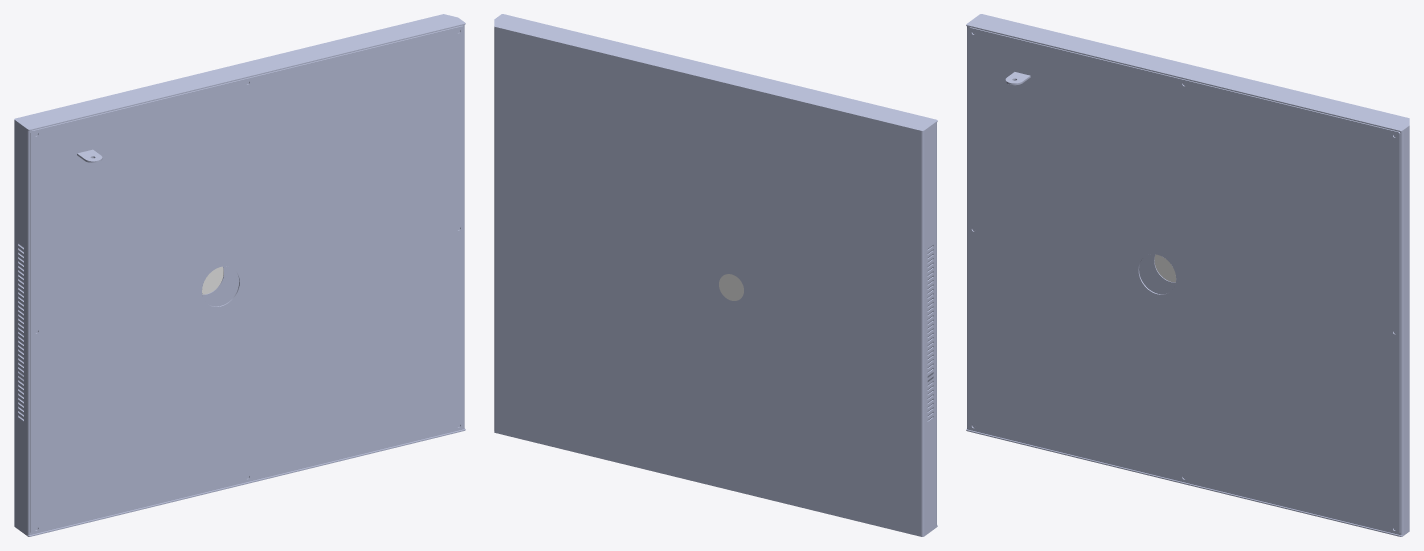
The model's file is laboratory centrifuge lid.glb.
3 views of the same model, side by side, from view 1: azimuth 30°, elevation 25°; view 2: azimuth 150°, elevation 25°; view 3: azimuth 330°, elevation 25° (orthographic).
Parts seen in each view (by area): view 1: laboratory centrifuge lid.IGS (×10); view 2: laboratory centrifuge lid.IGS (×8); view 3: laboratory centrifuge lid.IGS (×10).
Part boxes in pixels (x1,y1,x2,y2): laboratory centrifuge lid.IGS (×10): (14, 14, 465, 536); laboratory centrifuge lid.IGS (×8): (494, 14, 937, 536); laboratory centrifuge lid.IGS (×10): (966, 14, 1409, 536).
Size of the model in its own units: 0.52 by 0.4625 by 0.0562.
